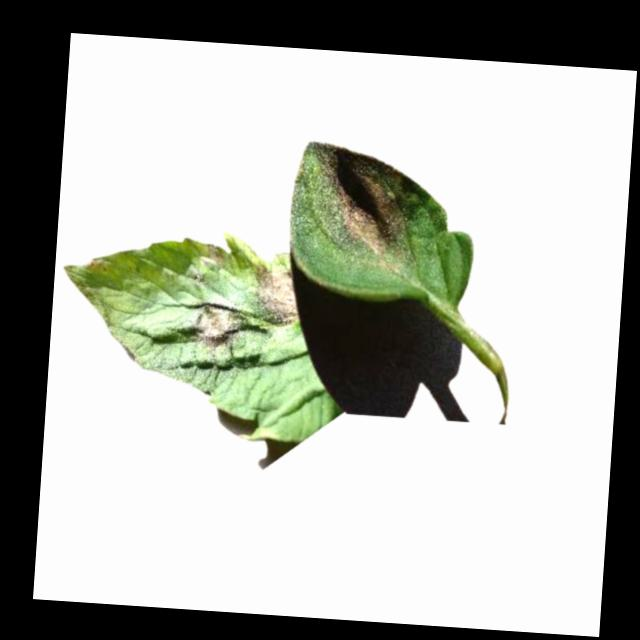Late_blight: (309, 140, 412, 259), (251, 263, 302, 330), (191, 298, 250, 354), (198, 240, 227, 274), (85, 254, 109, 272)
